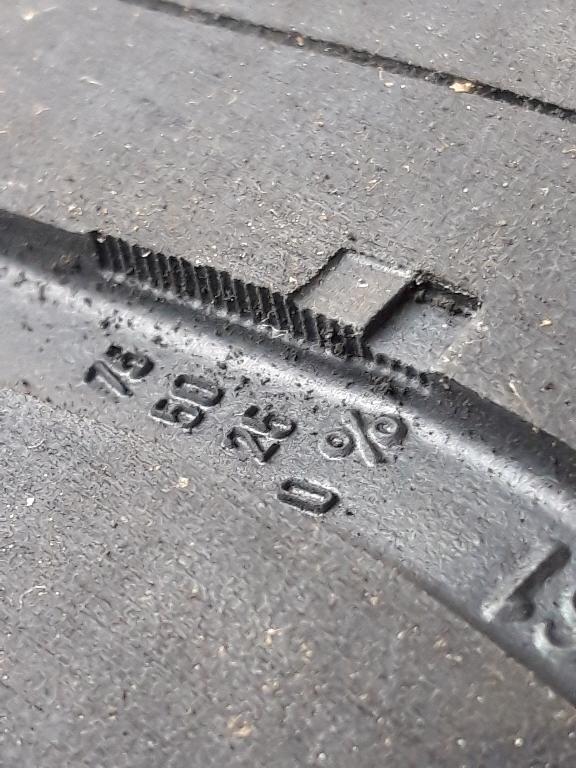temoin:25: (273, 241, 490, 404)
